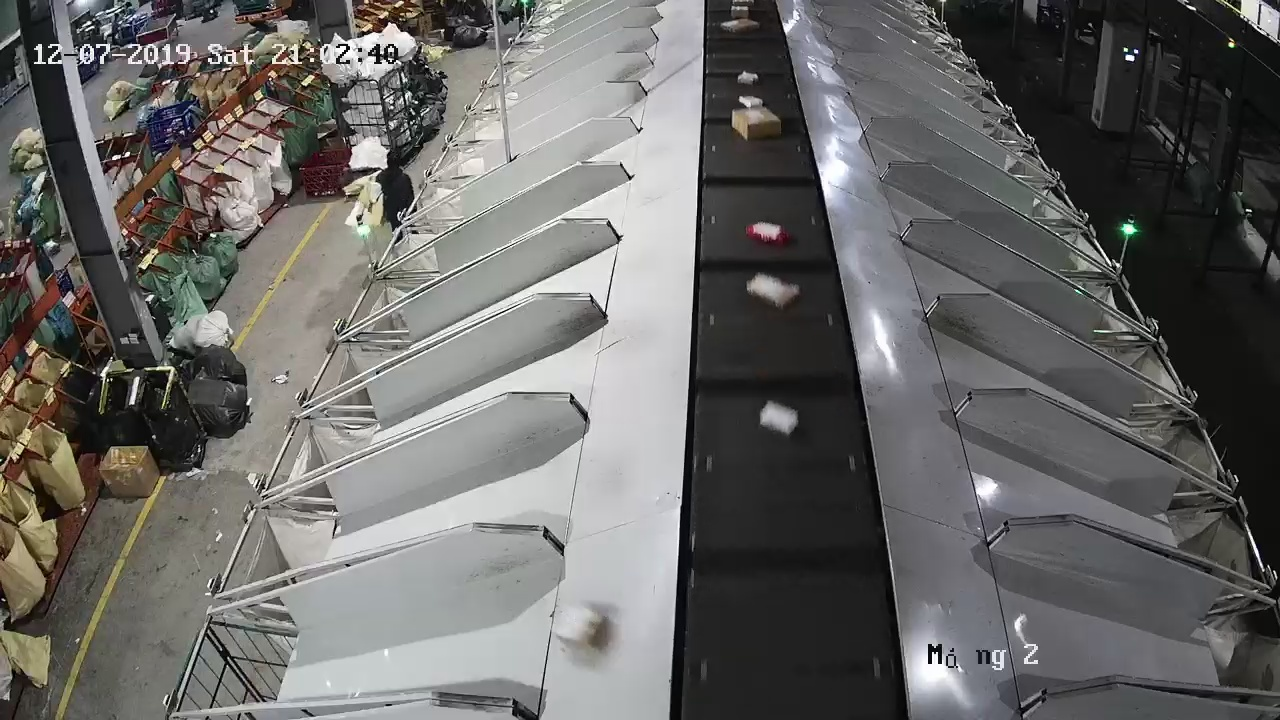parcel: (552, 603, 610, 654)
